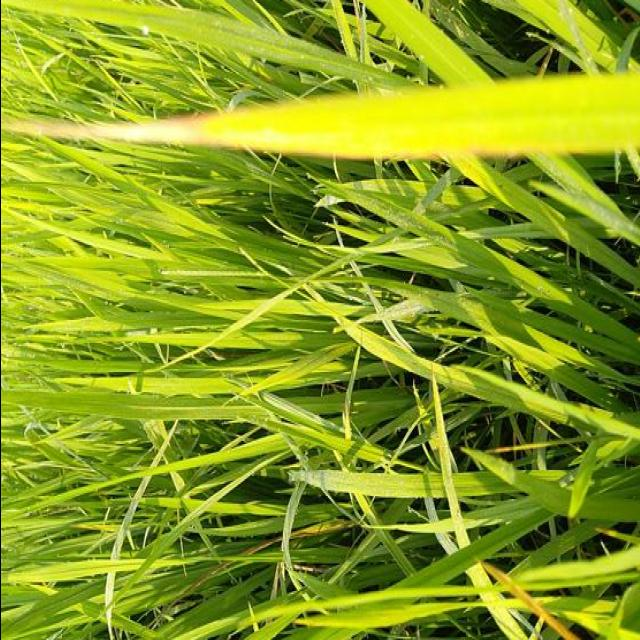Leaf Streak: (24, 93, 366, 158)
